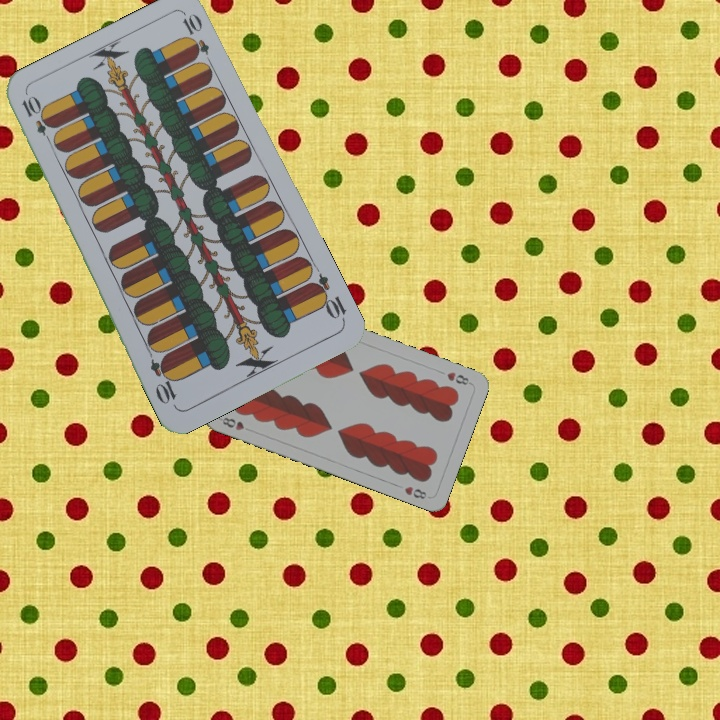E10: (306, 270, 349, 325), (17, 92, 57, 148)
H8: (218, 413, 255, 434), (443, 368, 474, 388)
